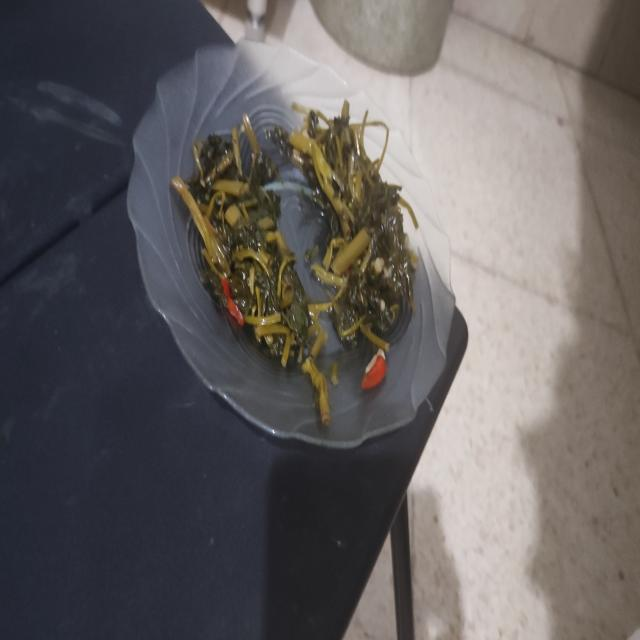tumis_kangkung: (288, 100, 418, 354), (188, 122, 312, 367)
